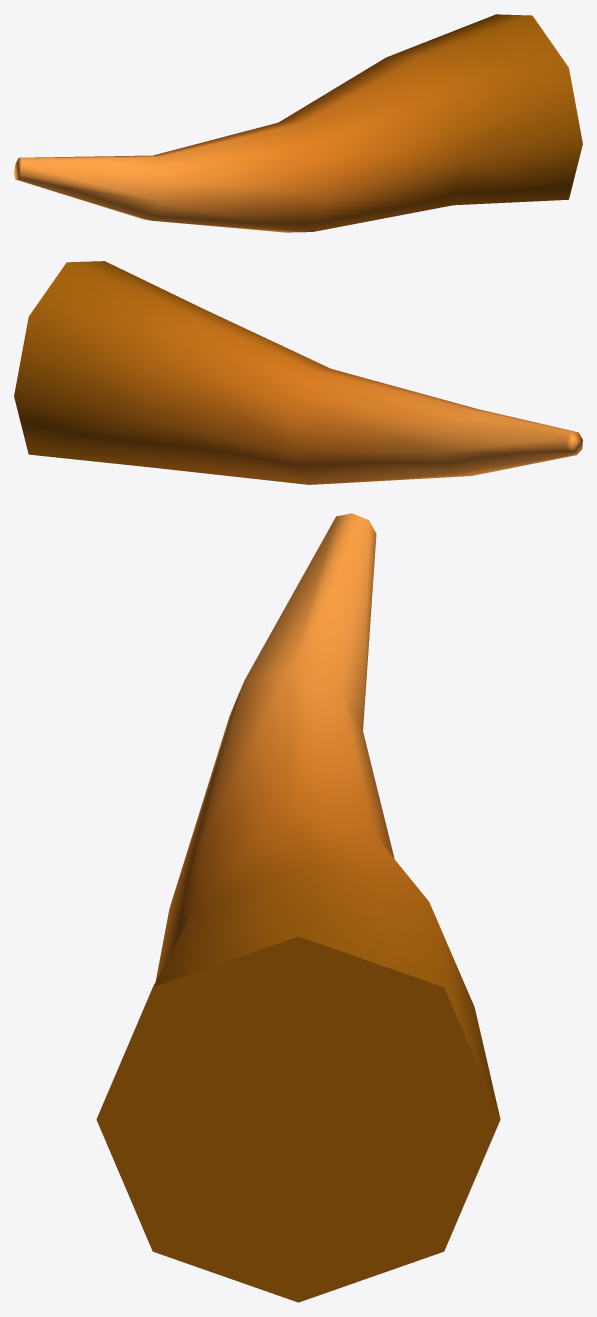
File: carrot.fbx
The picture shows the model from 3 angles, top to bottom: view 1: azimuth 30°, elevation 25°; view 2: azimuth 150°, elevation 25°; view 3: azimuth 270°, elevation 25°; orthographic projection. The views are drawn at different scales.
Visible parts, largest first — view 1: pCube16; view 2: pCube16; view 3: pCube16.
Boxes of the visible parts, x1=… form: pCube16: x1=14, y1=14, x2=582, y2=232; pCube16: x1=14, y1=261, x2=582, y2=484; pCube16: x1=96, y1=513, x2=500, y2=1302.
Bounding box in the file's own units: 0.4856 × 0.1686 × 0.1686.
